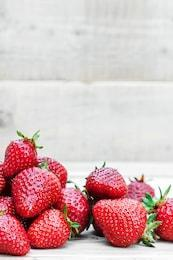Fresa: (9, 162, 65, 221), (91, 196, 151, 249), (27, 204, 72, 252), (2, 136, 40, 180), (85, 164, 130, 201)
